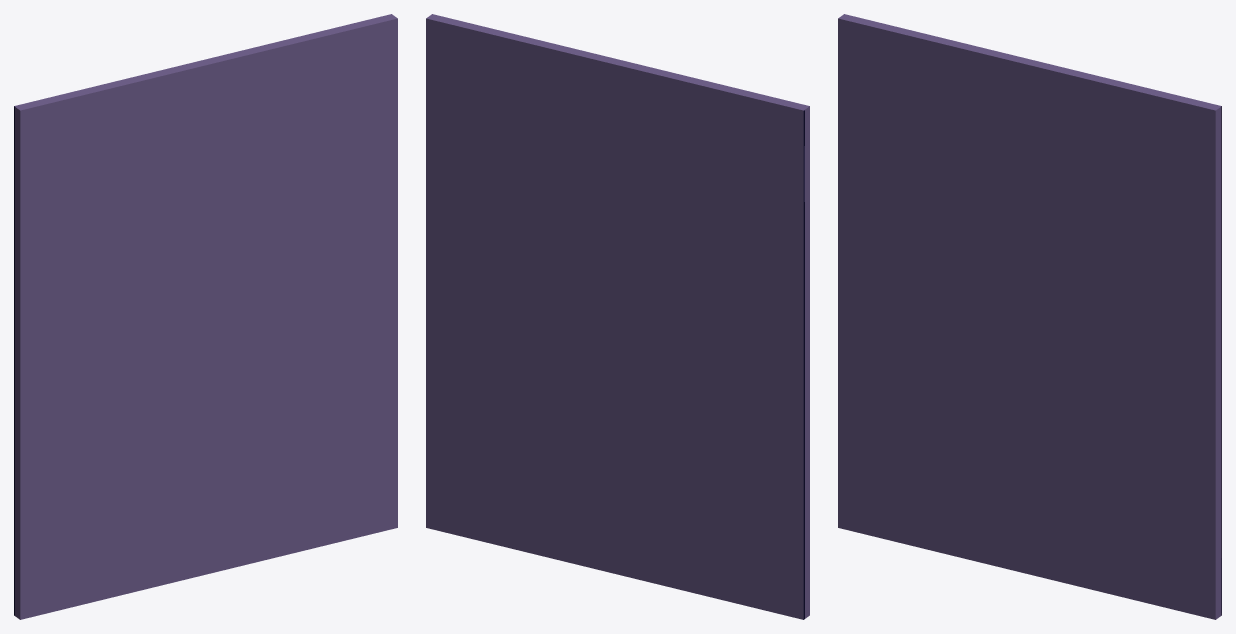
The model's file is ventanaFrente.obj.
3 views of the same model, side by side, from view 1: azimuth 30°, elevation 25°; view 2: azimuth 150°, elevation 25°; view 3: azimuth 330°, elevation 25° (orthographic).
Parts seen in each view (by area): view 1: pCube25; view 2: pCube25; view 3: pCube25.
Boxes of the visible parts, x1=… form: pCube25: x1=14, y1=14, x2=397, y2=619; pCube25: x1=426, y1=14, x2=809, y2=619; pCube25: x1=838, y1=14, x2=1221, y2=619.
Bounding box in the file's own units: 2.53 × 3.27 × 0.0712.
Materials: 1 (1 with a texture image).
